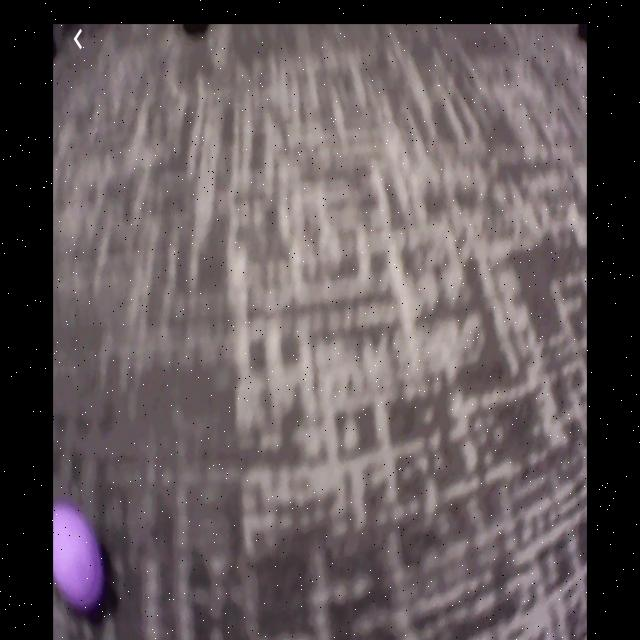ball: (55, 503, 105, 609)
